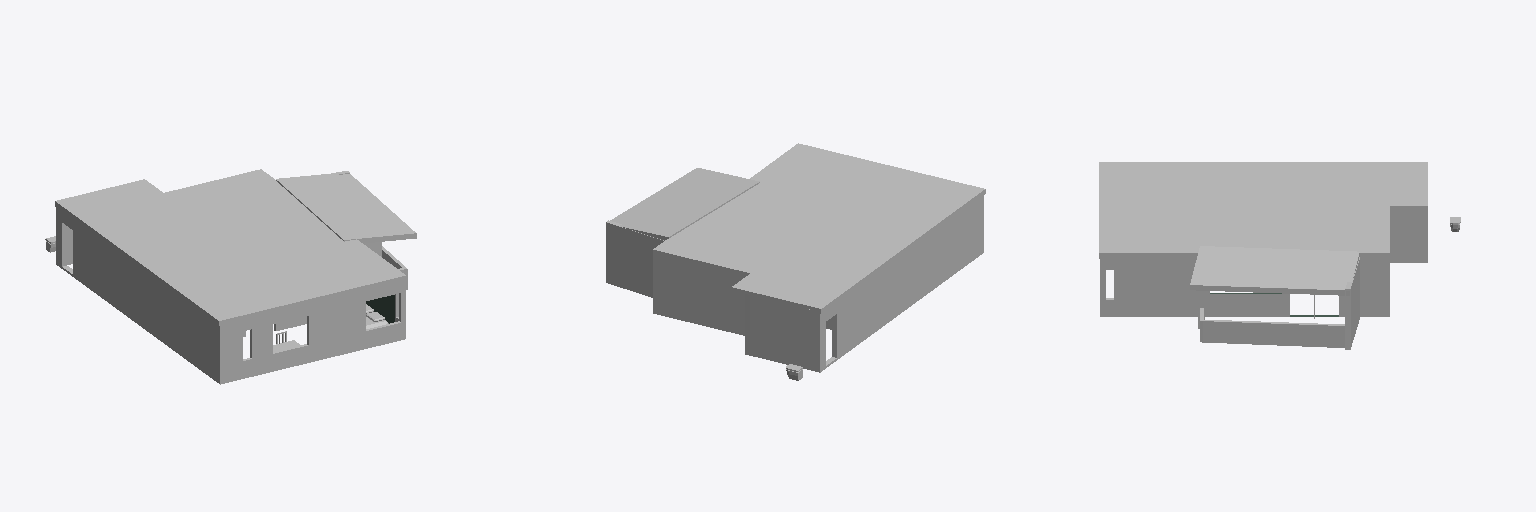
The model's file is OttoBrandt_22-01-2019_colouring_in2.obj.
3 renders of one model, left to right at view 1: azimuth 30°, elevation 25°; view 2: azimuth 150°, elevation 25°; view 3: azimuth 270°, elevation 25°, orthographic.
Parts seen in each view (by area): view 1: roof_Cube.002, wall_outer_Cube; view 2: roof_Cube.002, wall_outer_Cube; view 3: roof_Cube.002, wall_outer_Cube.
Boxes of the visible parts, <box> form: roof_Cube.002: <box>55,169,416,325</box>; wall_outer_Cube: <box>56,171,407,384</box>; roof_Cube.002: <box>610,143,985,313</box>; wall_outer_Cube: <box>606,196,983,372</box>; roof_Cube.002: <box>1099,162,1427,295</box>; wall_outer_Cube: <box>1100,211,1427,349</box>.
Bounding box in the file's own units: 10.97 × 2.76 × 13.5.